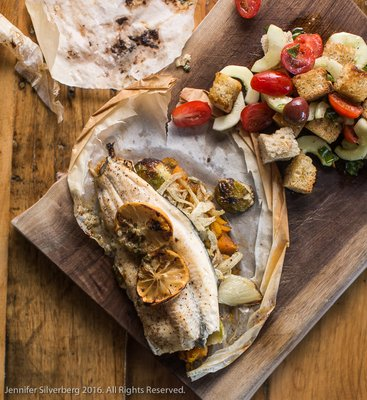sandwich: (42, 0, 367, 392)
